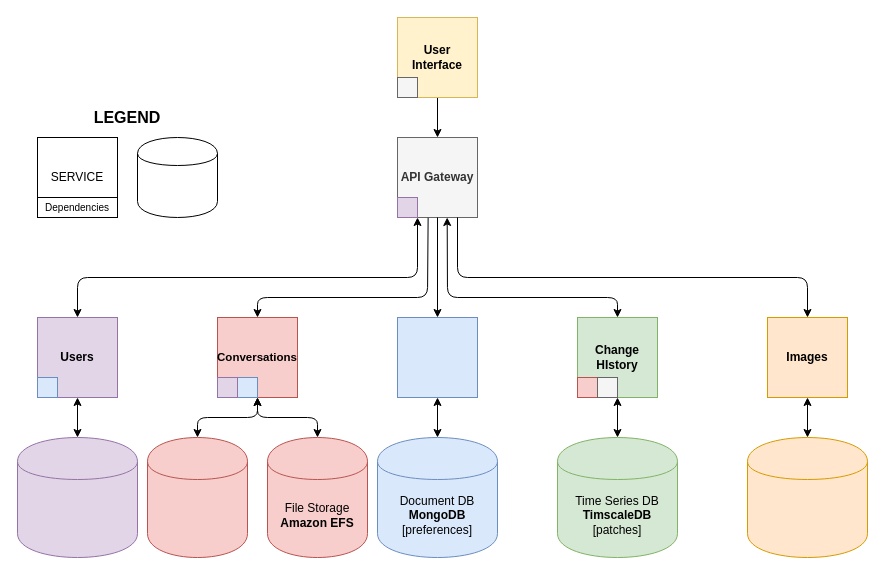
This 885x575 diagram has some shape labels left out. The centre of each missing label's shape, as x and y in pixels:
DATASTORE [tables]: (x=177, y=177)
File Storage Amazon S3: (x=807, y=497)
Notifications: (x=437, y=357)
Relational DB MariaDB [conversations, users_mappings ]: (x=197, y=497)
Relational DB MariaDB [users]: (x=77, y=497)
